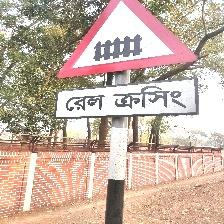Rail-crossing: (55, 0, 204, 123)
